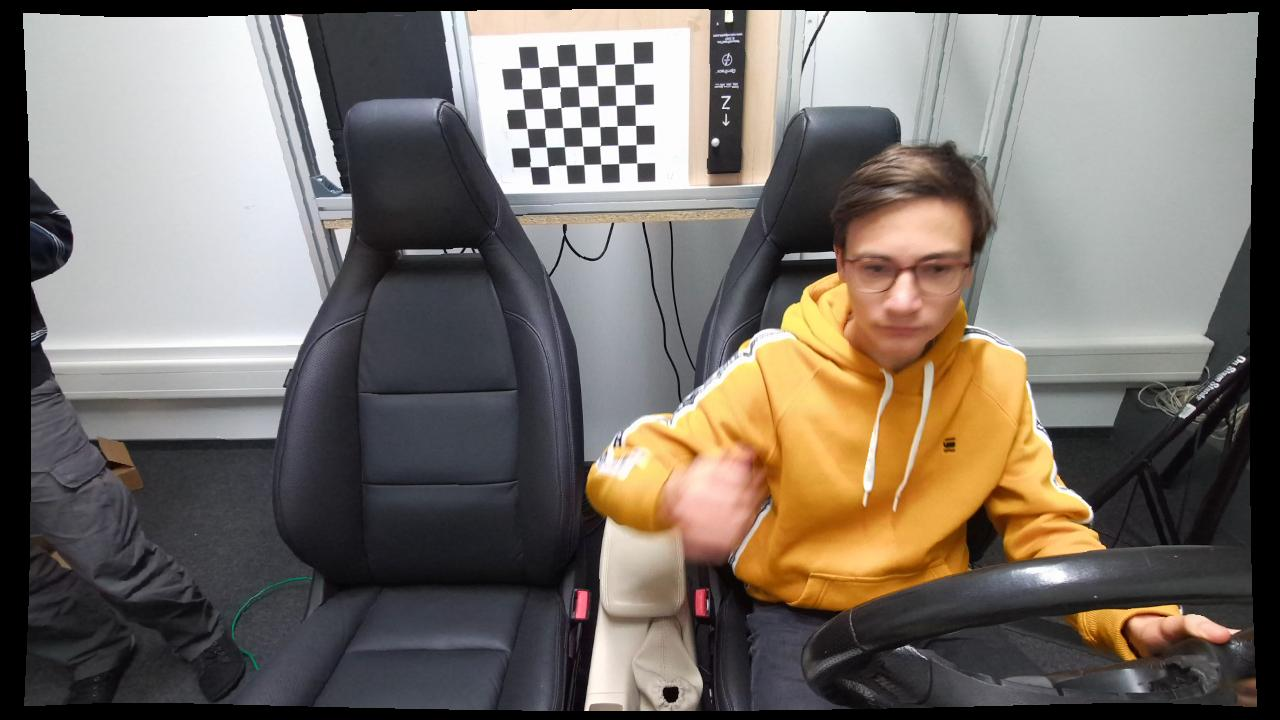Distracted: (576, 137, 1118, 719)
